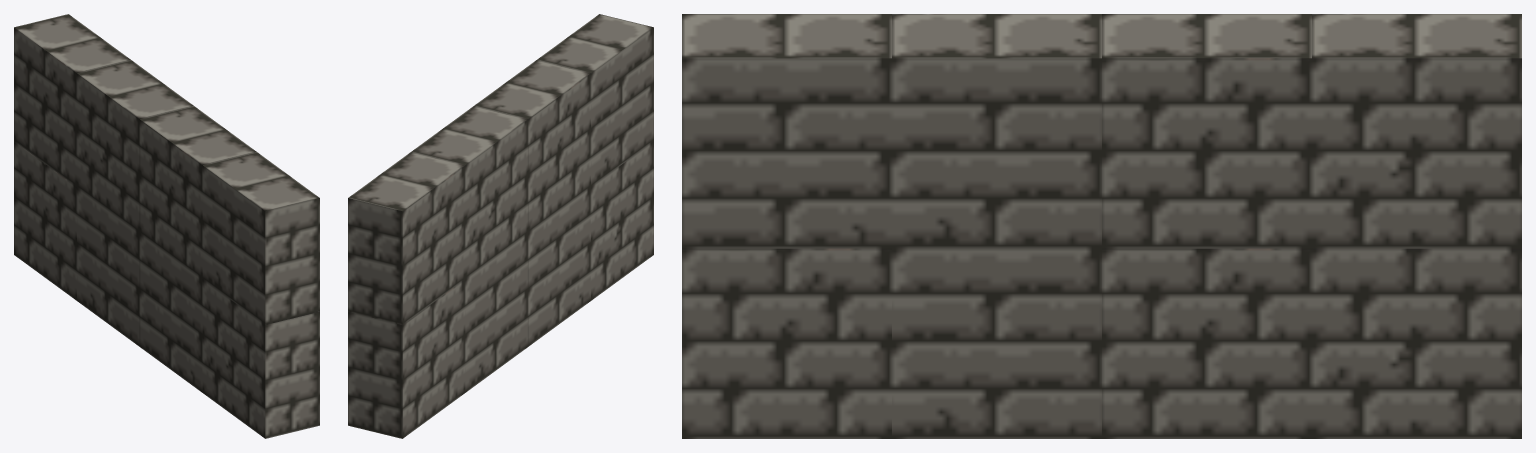
The model's file is Wall_Mid_x4.glb.
The picture shows the model from 3 angles, left to right: view 1: azimuth 30°, elevation 25°; view 2: azimuth 150°, elevation 25°; view 3: azimuth 270°, elevation 25°; orthographic projection. The views are drawn at different scales.
Parts seen in each view (by area): view 1: Wall_Mid_x4; view 2: Wall_Mid_x4; view 3: Wall_Mid_x4.
Boxes of the visible parts, x1,y1,x2,y2 form: Wall_Mid_x4: (14,14,319,438); Wall_Mid_x4: (348,14,653,438); Wall_Mid_x4: (682,14,1521,438).
Bounding box in the file's own units: 1 × 4 × 8.
1 material, 1 textured.
